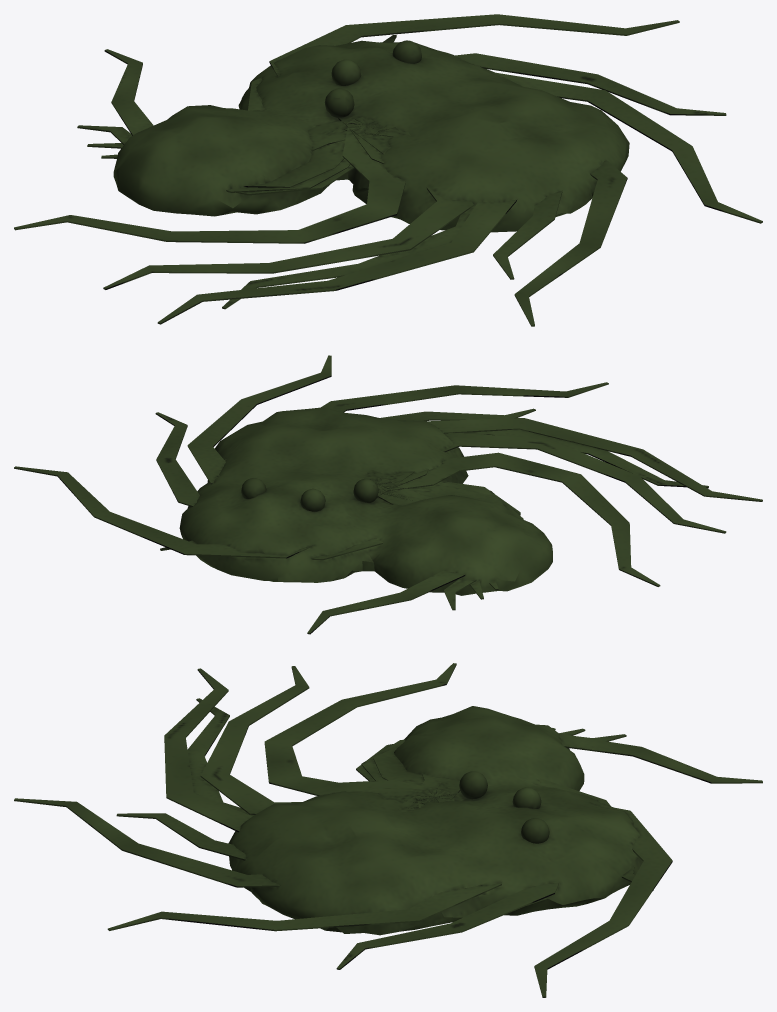
File: costa_alga_a.glb
The picture shows the model from 3 angles, top to bottom: view 1: azimuth 30°, elevation 25°; view 2: azimuth 150°, elevation 25°; view 3: azimuth 270°, elevation 25°; orthographic projection. The views are drawn at different scales.
Visible parts, largest first — view 1: costa_alga_a; view 2: costa_alga_a; view 3: costa_alga_a.
Part boxes in pixels (box(x1,y1,x2,y2)): costa_alga_a: box(14, 14, 762, 326); costa_alga_a: box(14, 355, 762, 634); costa_alga_a: box(14, 663, 762, 997).
Bounding box in the file's own units: 2.18 × 0.18 × 2.07.
Materials: 1 (1 with a texture image).
